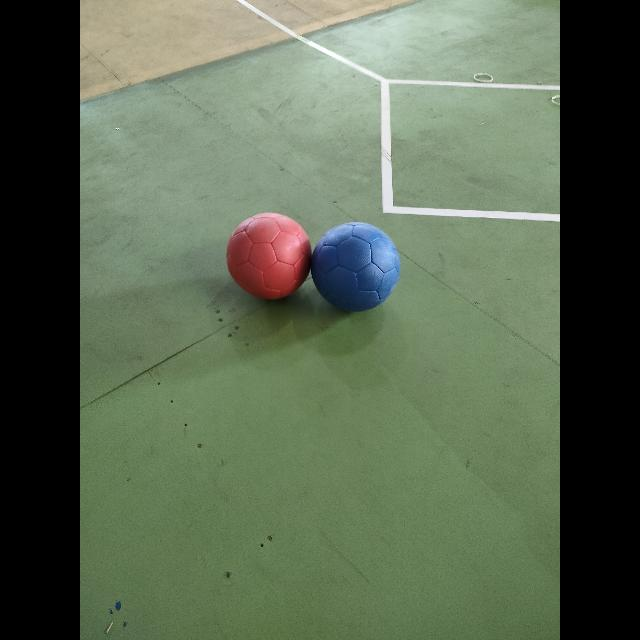B: (311, 222, 400, 311)
R: (226, 212, 311, 299)
